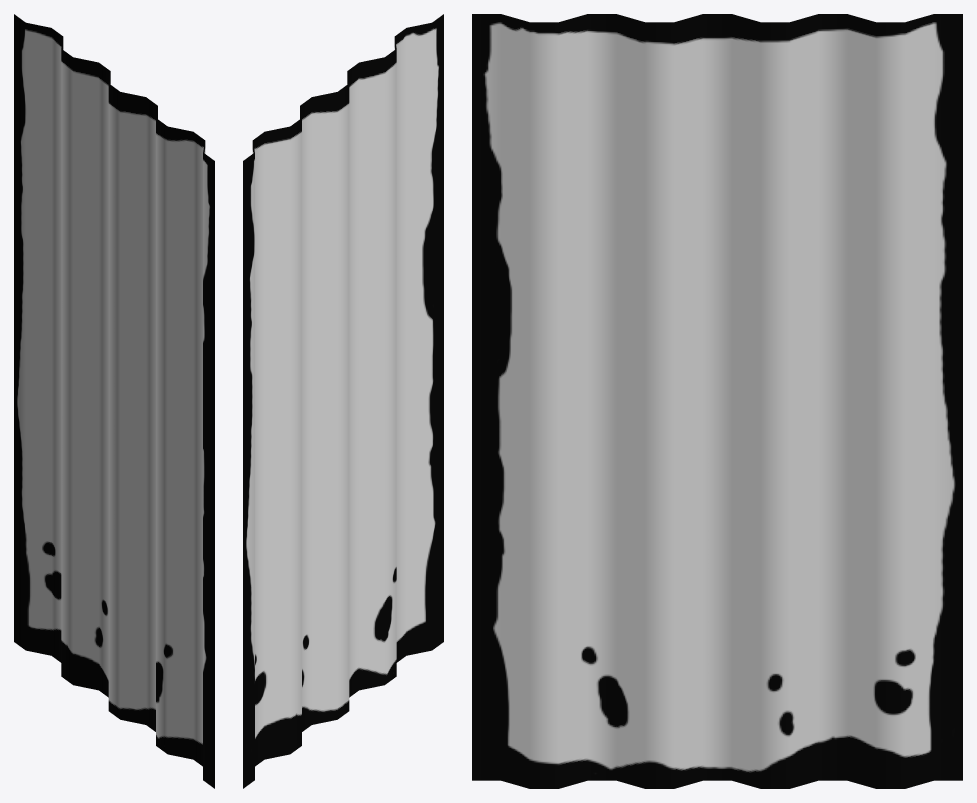
File: MetalPlate1.FBX
3 views of the same model, side by side, from view 1: azimuth 30°, elevation 25°; view 2: azimuth 150°, elevation 25°; view 3: azimuth 270°, elevation 25° (orthographic). The views are drawn at different scales.
Parts seen in each view (by area): view 1: MetalPlate1; view 2: MetalPlate1; view 3: MetalPlate1.
Part boxes in pixels (x1,y1,x2,y2): MetalPlate1: [14, 14, 214, 788]; MetalPlate1: [243, 14, 443, 788]; MetalPlate1: [472, 14, 962, 788].
Bounding box in the file's own units: 1.83 × 45.72 × 78.83.
